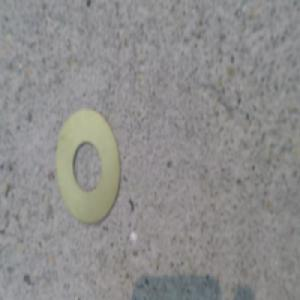Washer: (56, 106, 123, 224)
